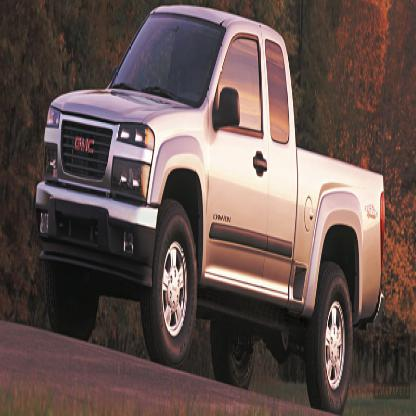Vehicle: (35, 3, 386, 414)
